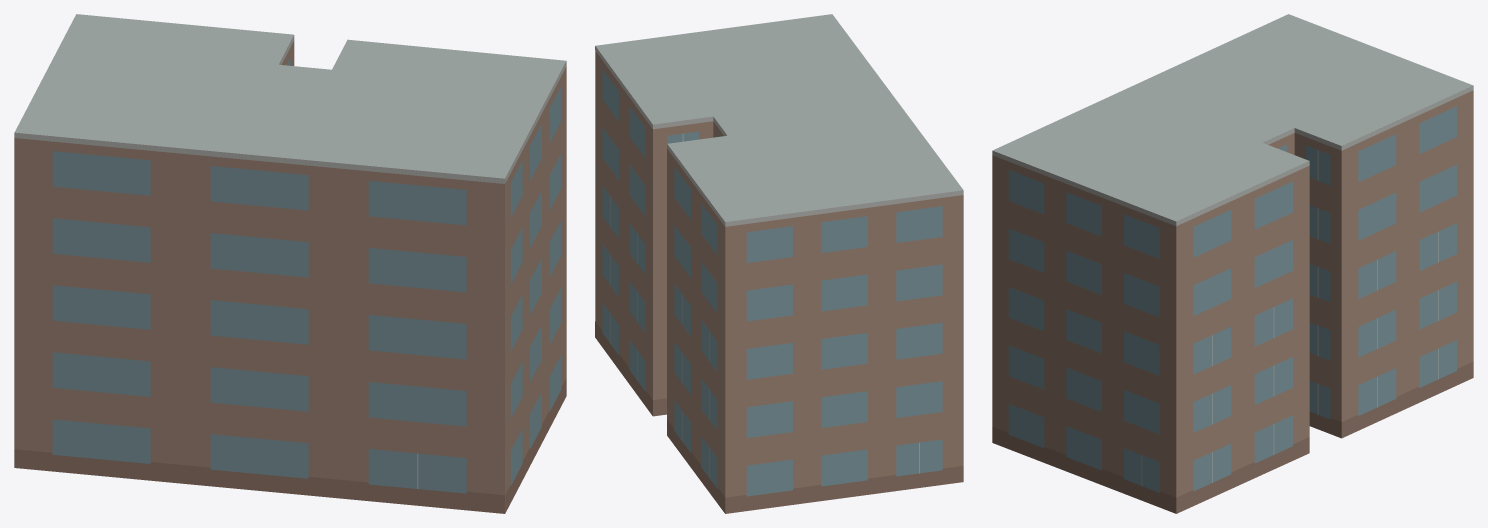
File: survey-upis-32752307.glb
The picture shows the model from 3 angles, left to right: view 1: azimuth 30°, elevation 25°; view 2: azimuth 150°, elevation 25°; view 3: azimuth 270°, elevation 25°; orthographic projection. The views are drawn at different scales.
Parts seen in each view (by area): view 1: survey-upis-32752307.tmp; view 2: survey-upis-32752307.tmp; view 3: survey-upis-32752307.tmp.
Part boxes in pixels (left/top/right/bottom): survey-upis-32752307.tmp: left=14, top=14, right=566, bottom=513; survey-upis-32752307.tmp: left=595, top=14, right=963, bottom=513; survey-upis-32752307.tmp: left=992, top=14, right=1473, bottom=513.
Size of the model in its own units: 23.23 by 15.25 by 22.76.
